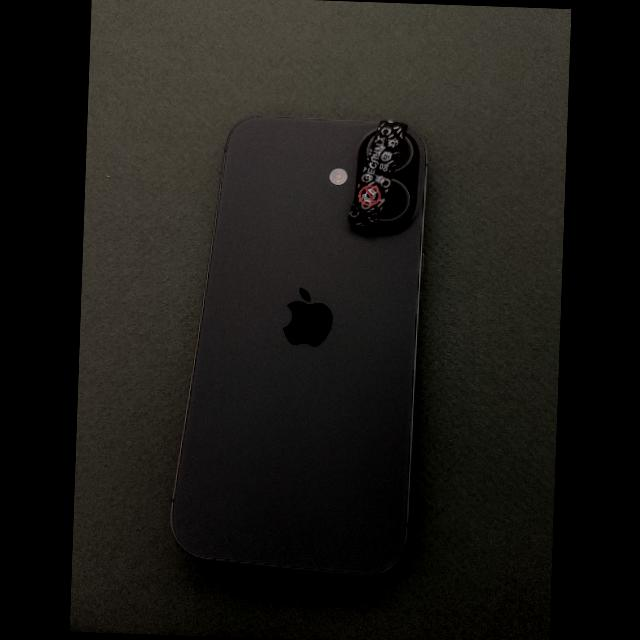lens: (375, 178, 408, 222), (393, 137, 412, 173)
phone: (171, 117, 426, 575)
sticker: (346, 120, 406, 227)
